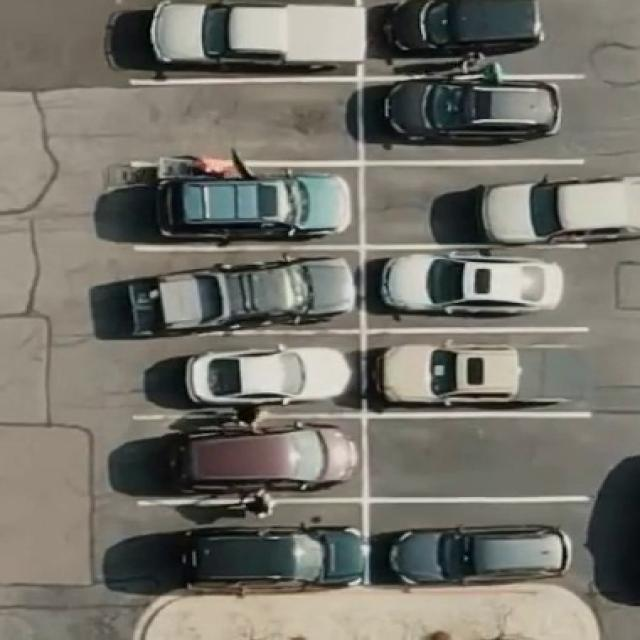empty: (373, 423, 584, 493), (132, 89, 352, 153)
notEmpty: (140, 517, 365, 590), (375, 507, 587, 584), (130, 2, 353, 75), (370, 253, 588, 325), (140, 422, 357, 494), (373, 338, 593, 409), (370, 171, 590, 241), (139, 171, 355, 242), (141, 340, 356, 411), (370, 2, 582, 74), (137, 255, 357, 324), (368, 86, 583, 154)
